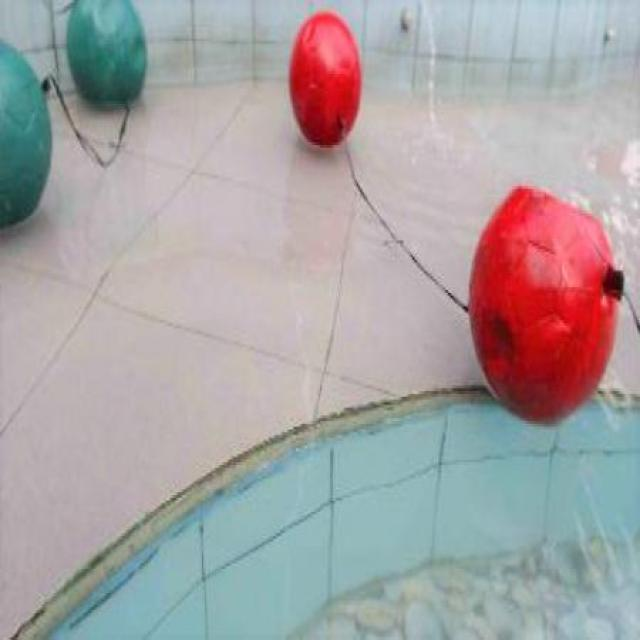buoy: (467, 182, 618, 425), (288, 11, 362, 148), (1, 40, 52, 223), (66, 2, 146, 108)
